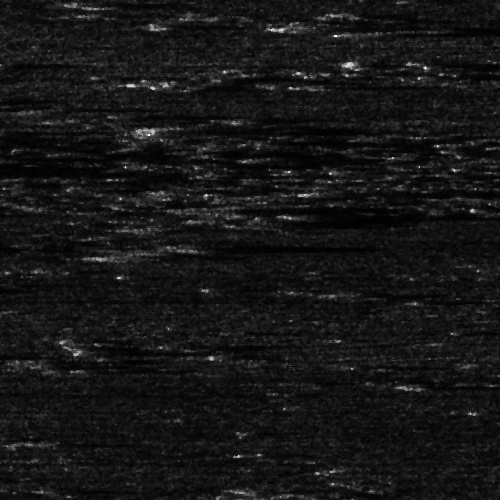object: (170, 210, 315, 233), (125, 236, 230, 255), (224, 18, 349, 31), (147, 200, 262, 213), (240, 187, 375, 198), (320, 27, 393, 34), (124, 125, 177, 132), (384, 380, 437, 387), (277, 81, 350, 86), (43, 364, 106, 369), (141, 20, 172, 27), (0, 150, 9, 161), (0, 60, 14, 65)
shadow: (0, 156, 183, 175), (0, 150, 289, 161), (178, 236, 327, 255), (0, 174, 111, 199), (243, 210, 360, 233), (287, 18, 487, 31), (205, 200, 396, 213), (308, 187, 468, 198), (150, 125, 339, 132), (0, 175, 99, 186), (0, 92, 52, 111), (357, 27, 481, 34), (411, 380, 500, 387), (314, 81, 435, 86), (75, 364, 181, 369), (157, 20, 232, 27), (0, 350, 48, 357), (0, 60, 63, 65)
